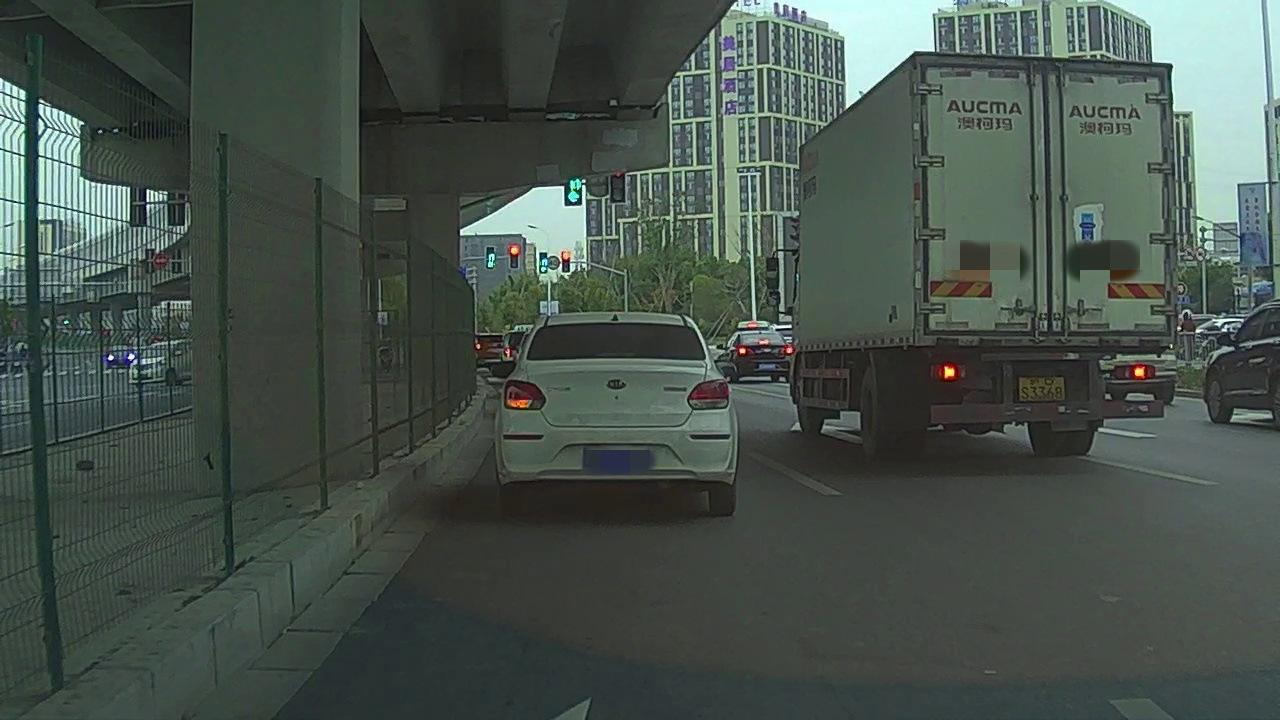traffic_light: (611, 172, 624, 203), (566, 182, 581, 205), (540, 252, 547, 275), (488, 247, 494, 269), (564, 251, 570, 273), (512, 246, 518, 266)
